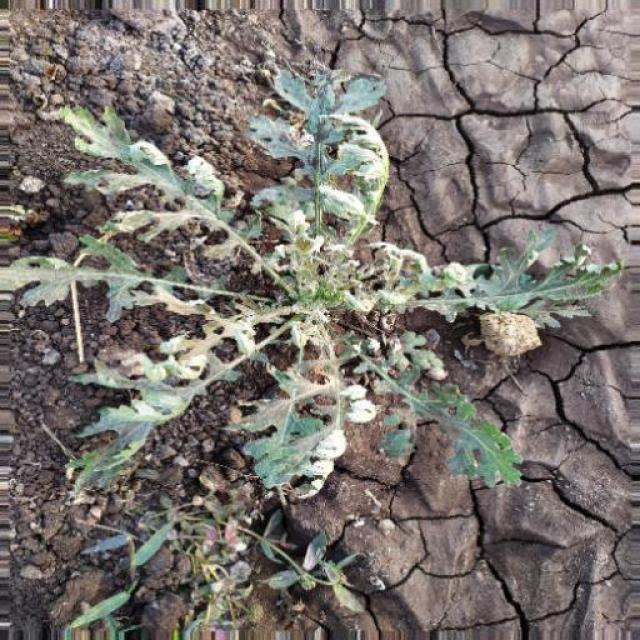weed: (29, 69, 599, 518)
